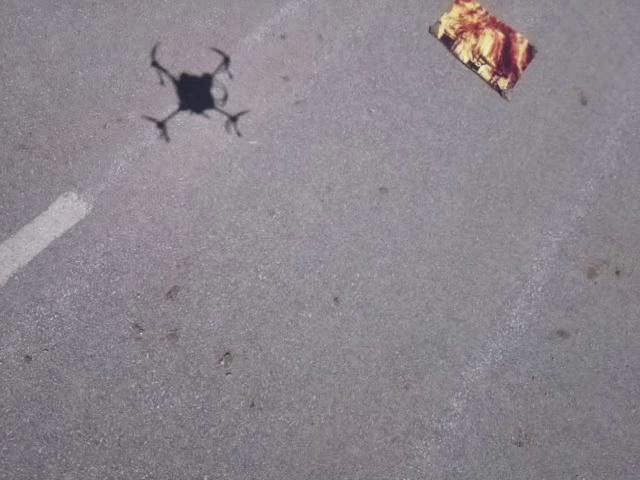fire-poster: (426, 0, 538, 103)
